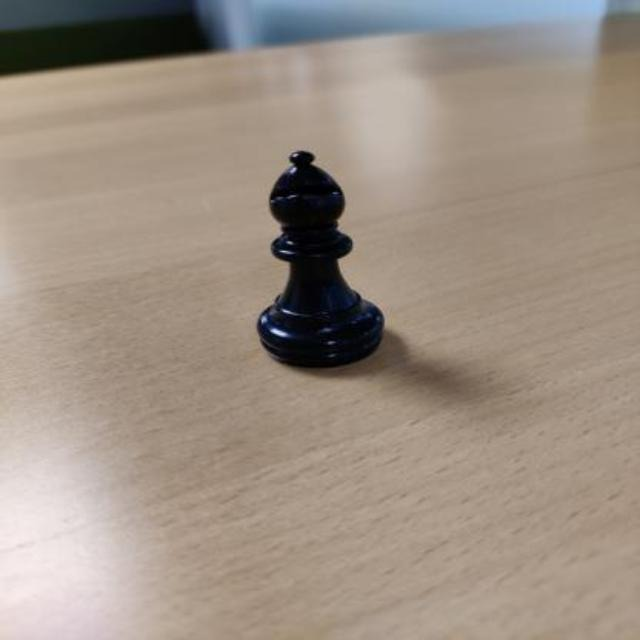black-bishop: (256, 152, 383, 370)
